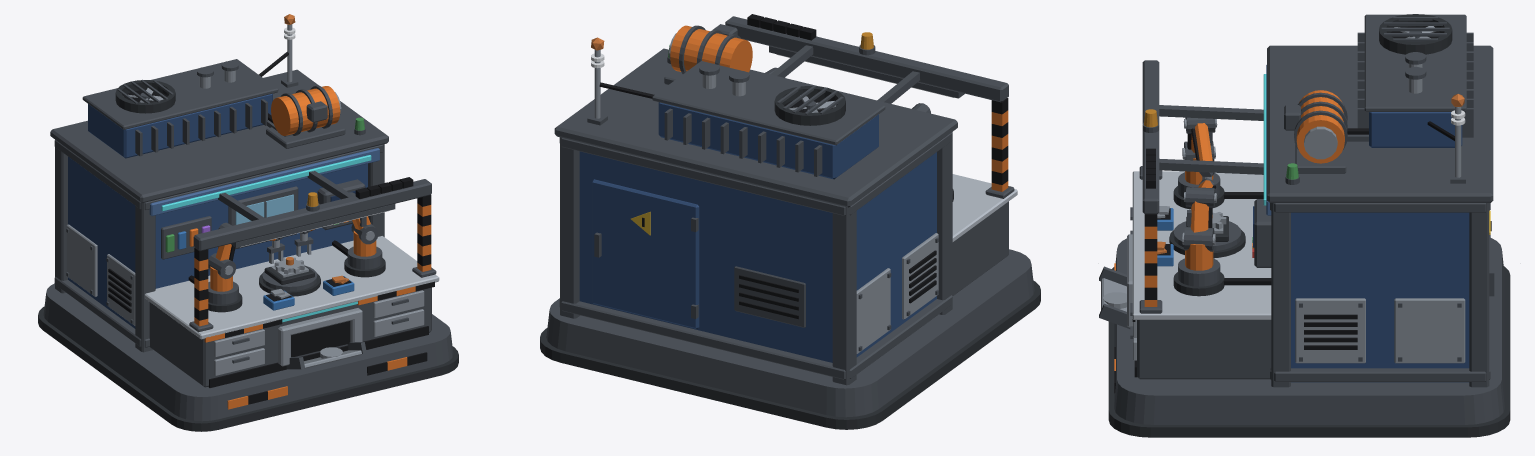
The model's file is assembleur_avance.glb.
3 views of the same model, side by side, from view 1: azimuth 30°, elevation 25°; view 2: azimuth 150°, elevation 25°; view 3: azimuth 270°, elevation 25° (orthographic). The views are drawn at different scales.
Parts seen in each view (by area): view 1: pieces_acier_sombre.002, socle.002, caisson_toit.002, caisson.002, etabli_plateau.002, pieces_acier.002, pieces_noir.002, etabli.002, socle_plinthe.002, transformateur_toit.002, transformateur.002, pieces_jaune.002 (+17 smaller); view 2: pieces_acier_sombre.002, caisson.002, socle.002, caisson_toit.002, armoire_porte.002, socle_plinthe.002, transformateur_toit.002, transformateur.002, pieces_acier.002, pieces_noir.002, etabli.002, moteur.002 (+3 smaller); view 3: pieces_acier_sombre.002, socle.002, caisson_toit.002, caisson.002, pieces_acier.002, etabli_plateau.002, etabli.002, socle_plinthe.002, transformateur_toit.002, pieces_noir.002, transformateur.002, bras2_acier_sombre.002 (+13 smaller).
Boxes of the visible parts, <box> form: pieces_acier_sombre.002: <box>54,61,436,369</box>; socle.002: <box>43,283,453,421</box>; caisson_toit.002: <box>50,69,388,203</box>; caisson.002: <box>68,156,367,328</box>; etabli_plateau.002: <box>144,236,439,339</box>; pieces_acier.002: <box>66,24,424,375</box>; pieces_noir.002: <box>108,52,434,404</box>; etabli.002: <box>149,287,431,387</box>; socle_plinthe.002: <box>38,306,458,431</box>; transformateur_toit.002: <box>82,59,278,129</box>; transformateur.002: <box>88,93,272,158</box>; pieces_jaune.002: <box>194,203,431,409</box>; pieces_acier_sombre.002: <box>559,16,1014,385</box>; caisson.002: <box>579,151,936,362</box>; socle.002: <box>546,249,1034,417</box>; caisson_toit.002: <box>554,48,957,207</box>; armoire_porte.002: <box>592,179,699,328</box>; socle_plinthe.002: <box>540,280,1040,429</box>; transformateur_toit.002: <box>652,61,885,145</box>; transformateur.002: <box>658,102,878,179</box>; pieces_acier.002: <box>594,50,938,354</box>; pieces_noir.002: <box>599,14,1008,319</box>; etabli.002: <box>952,201,1008,295</box>; moteur.002: <box>670,25,752,72</box>; pieces_acier_sombre.002: <box>1099,17,1494,387</box>; socle.002: <box>1114,238,1504,424</box>; caisson_toit.002: <box>1267,45,1493,202</box>; caisson.002: <box>1291,212,1469,382</box>; pieces_acier.002: <box>1101,63,1465,363</box>; etabli_plateau.002: <box>1132,171,1271,319</box>; etabli.002: <box>1137,320,1271,379</box>; socle_plinthe.002: <box>1108,266,1510,437</box>; transformateur_toit.002: <box>1364,14,1466,111</box>; pieces_noir.002: <box>1114,26,1491,393</box>; transformateur.002: <box>1369,112,1462,147</box>; bras2_acier_sombre.002: <box>1178,178,1220,286</box>.
Bounding box in the file's own units: 2 × 1.67 × 2.
